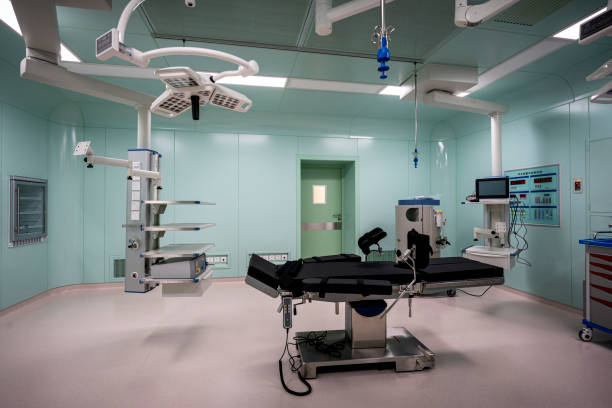bedside_monitor: (475, 177, 509, 199)
cabinet: (9, 179, 48, 243)
door_handle: (331, 211, 345, 223)
electrosurgical_unit: (149, 251, 213, 286)
handle: (15, 186, 22, 234)
medical_drawer: (579, 239, 612, 342)
operating_bed: (244, 228, 505, 379)
surgical_light: (150, 65, 252, 119)
